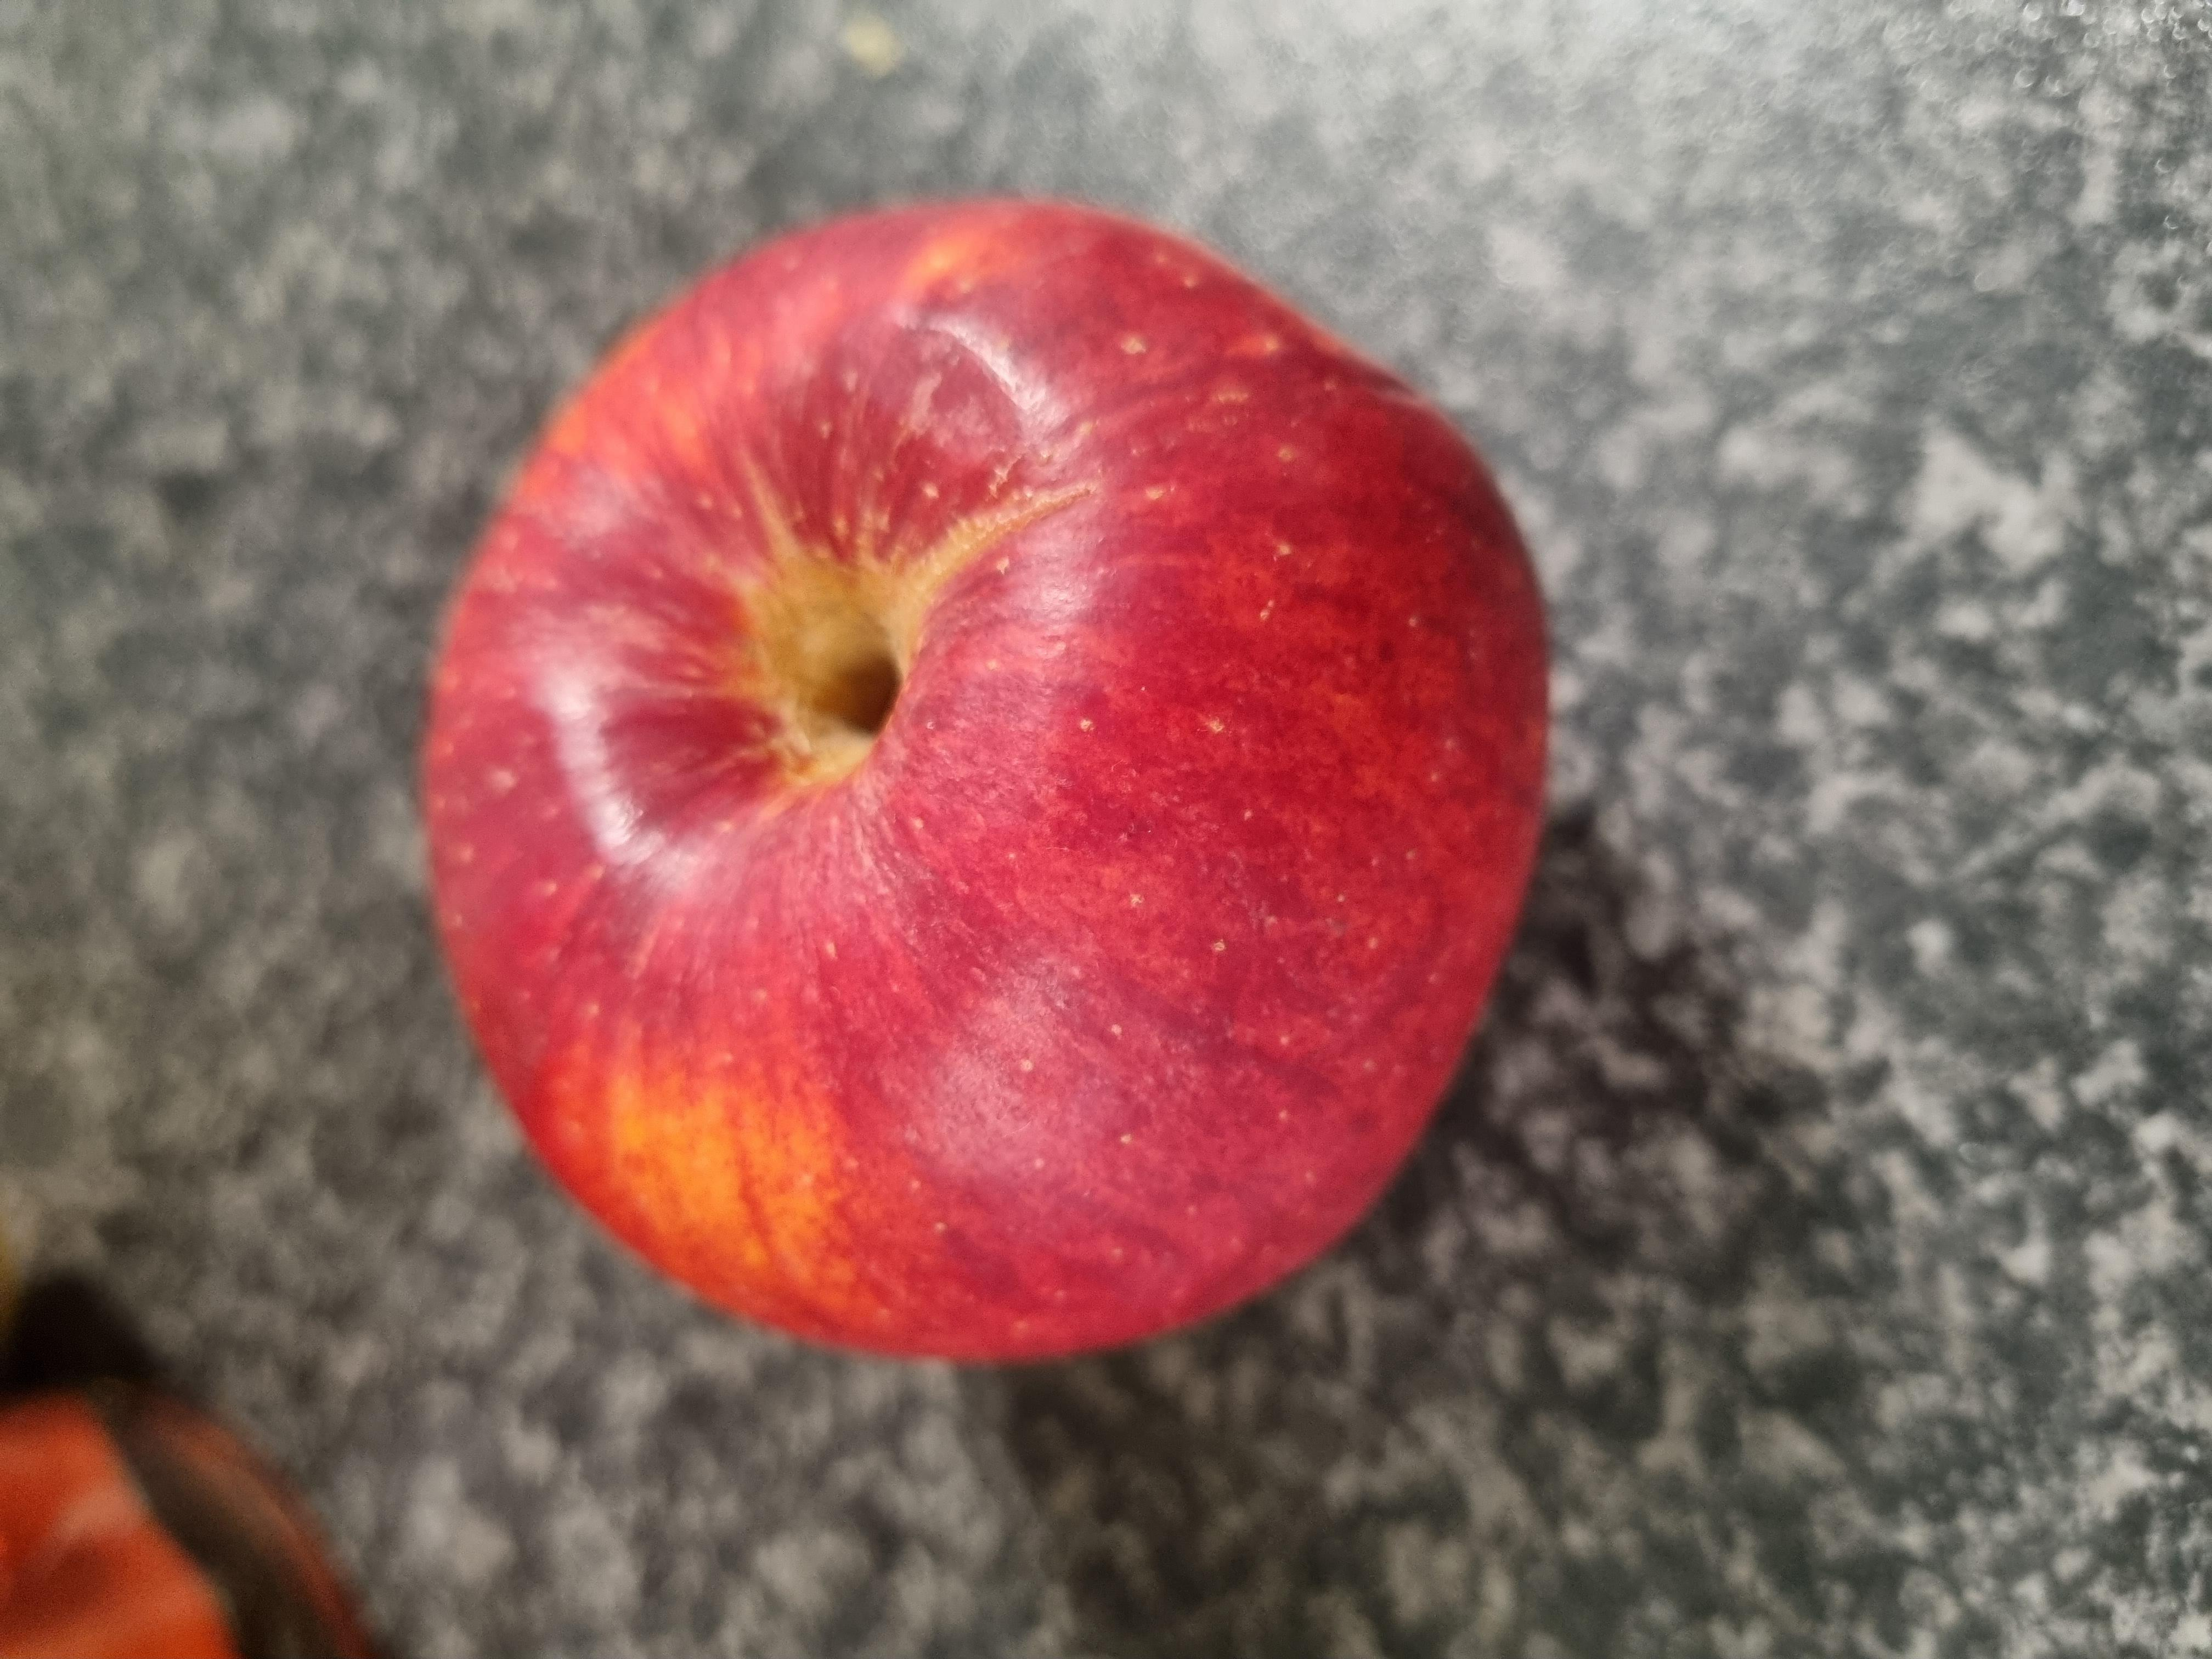Apple: (315, 293, 1991, 1178)
